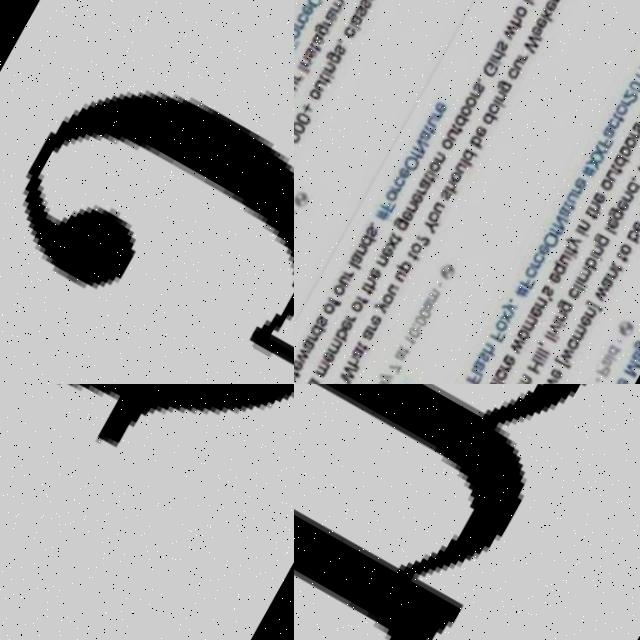0: (413, 307, 431, 323), (403, 326, 419, 342), (625, 80, 640, 97), (294, 111, 309, 127), (409, 315, 426, 329), (294, 120, 305, 136), (294, 129, 299, 145)
1: (399, 337, 413, 348), (631, 75, 640, 87)
2: (620, 91, 637, 105)
5: (0, 30, 294, 384)
7: (383, 361, 400, 377), (635, 63, 640, 79)
F: (30, 384, 294, 450)
M: (294, 384, 640, 640)
